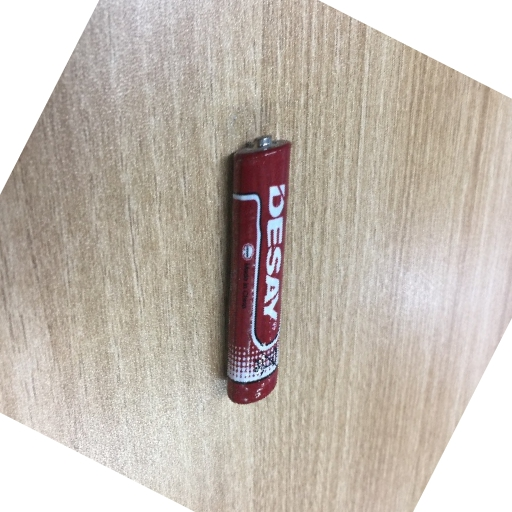Battery_0: (212, 122, 304, 412)
